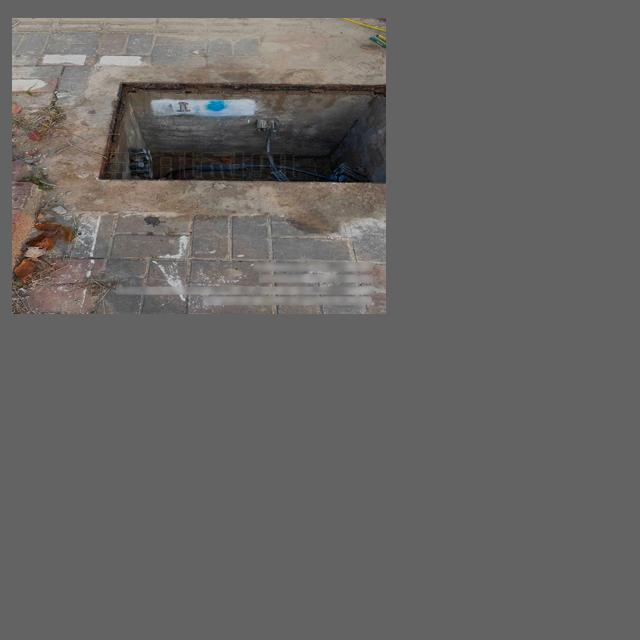lose: (95, 83, 383, 181)
